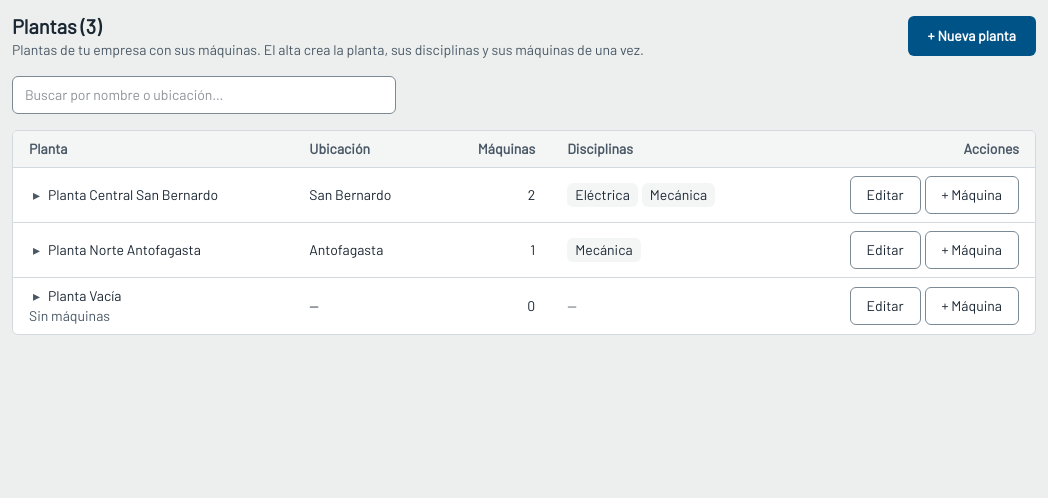
Test: PlantasComponent › al expandir una planta muestra sus máquinas con SLA y costo
Click the button with test id "expandir-planta" next to "Planta Central San Bernardo".
click(36, 195)  # box [29,185,44,205]
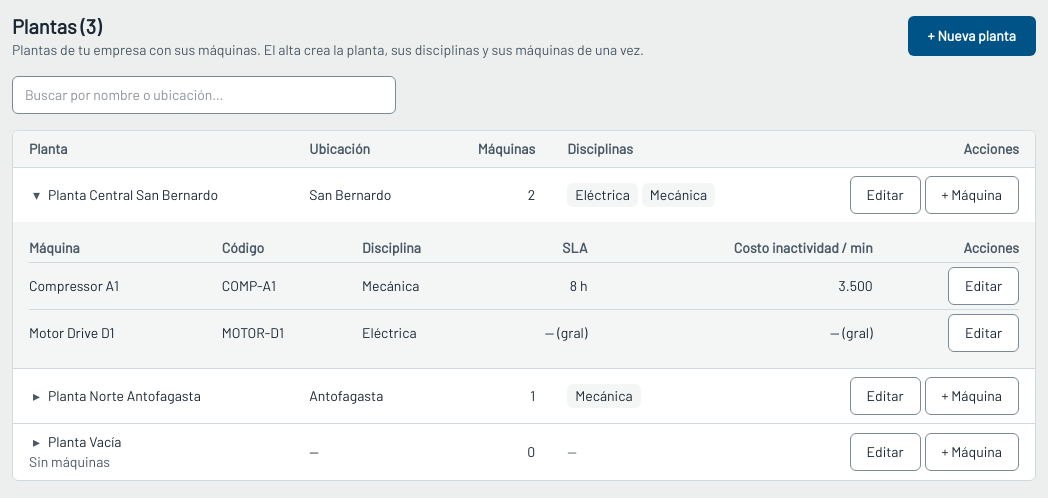
Check: the number of rows with test id "fila-maquina" is 2, box [29,262,1019,310]; [29,310,1019,356]
Check: the cell "COMP-A1" is shown, box [222,262,362,310]
Check: the cell "8 h" is shown, box [496,262,600,310]
